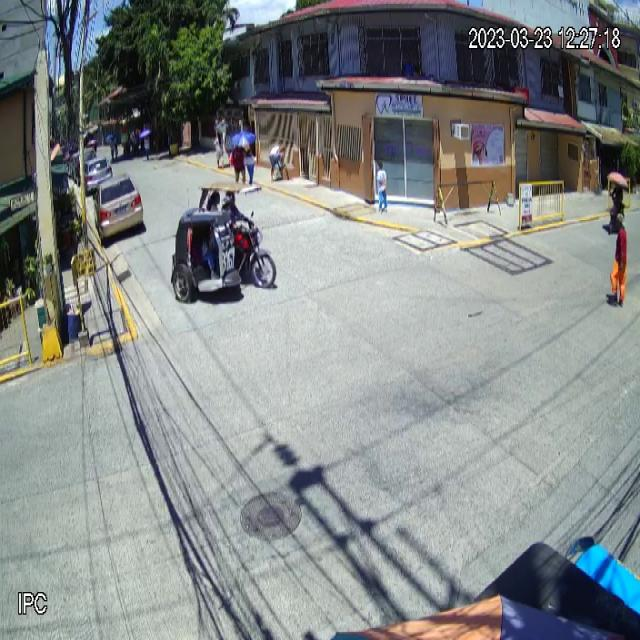Tricycle: (171, 180, 278, 303)
